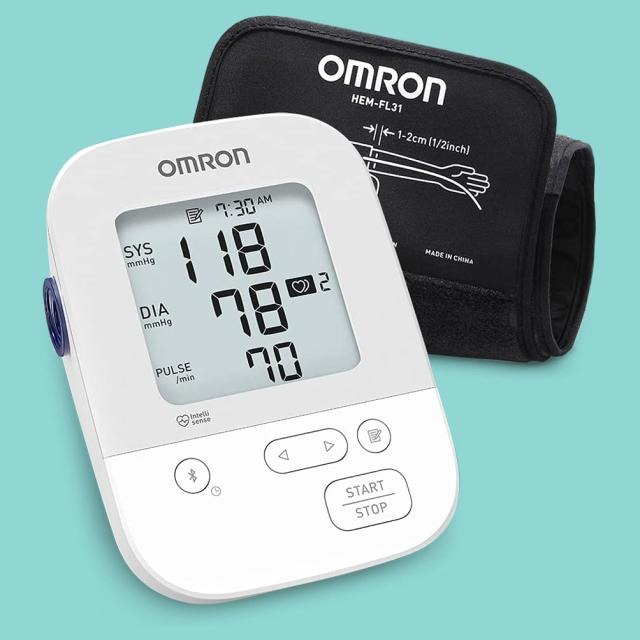dia: (205, 278, 297, 344)
pul: (239, 335, 311, 391)
ssd: (113, 172, 364, 412)
sys: (169, 211, 282, 292)
